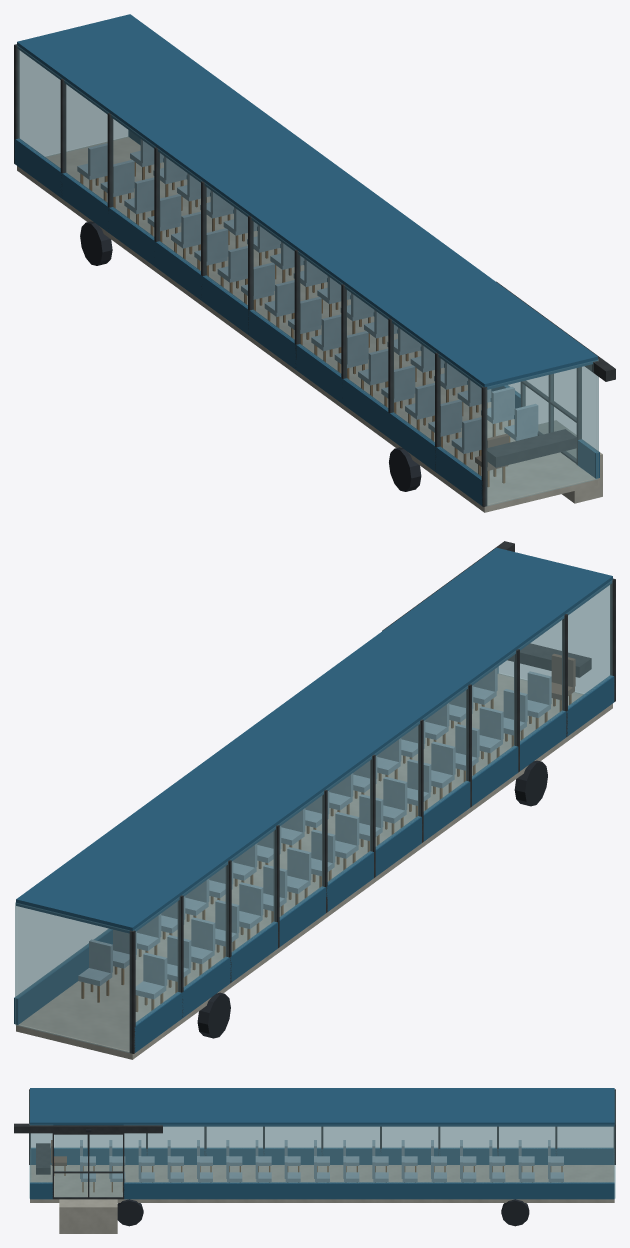
File: 21_Commuter_Train_LOD1.glb
The picture shows the model from 3 angles, top to bottom: view 1: azimuth 30°, elevation 25°; view 2: azimuth 150°, elevation 25°; view 3: azimuth 270°, elevation 25°; orthographic projection. The views are drawn at different scales.
Parts seen in each view (by area): view 1: Vehicle roof, Side windows, Vehicle floor, Vehicle side panel, End glazing, End glazing.001, Driver dashboard, Door glass, Entry side glass, Wheel, Wheel.001, Door glass.001 (+6 smaller); view 2: Vehicle roof, Side windows, Vehicle floor, Vehicle side panel, End glazing.001, Entry side glass.001, End glazing, Entry side lower.001, Wheel.001, Wheel, Driver dashboard, Window mullion.010 (+12 smaller); view 3: Entry side glass.001, Vehicle roof, Side windows, Vehicle floor, Entry side lower.001, Vehicle side panel, Door glass.001, Door glass, Boarding step, Door header, Entry side glass, Wheel.003 (+3 smaller).
Boxes of the visible parts, left/top/right/bottom form: Vehicle roof: left=17, top=14, right=597, bottom=389; Side windows: left=17, top=46, right=482, bottom=478; Vehicle floor: left=17, top=137, right=597, bottom=512; Vehicle side panel: left=14, top=138, right=482, bottom=506; End glazing: left=485, top=360, right=598, bottom=505; End glazing.001: left=18, top=50, right=128, bottom=156; Driver dashboard: left=487, top=429, right=577, bottom=467; Door glass: left=551, top=368, right=576, bottom=458; Entry side glass: left=579, top=359, right=598, bottom=452; Wheel: left=389, top=447, right=421, bottom=491; Wheel.001: left=80, top=221, right=112, bottom=265; Door glass.001: left=523, top=375, right=548, bottom=433; Vehicle roof: left=16, top=547, right=612, bottom=933; Side windows: left=133, top=580, right=612, bottom=1024; Vehicle floor: left=16, top=673, right=612, bottom=1059; Vehicle side panel: left=134, top=675, right=614, bottom=1052; End glazing.001: left=15, top=903, right=131, bottom=1052; Entry side glass.001: left=15, top=902, right=108, bottom=997; End glazing: left=498, top=584, right=611, bottom=694; Entry side lower.001: left=14, top=929, right=112, bottom=1024; Wheel.001: left=197, top=992, right=230, bottom=1038; Wheel: left=514, top=760, right=547, bottom=806; Driver dashboard: left=507, top=643, right=591, bottom=677; Window mullion.010: left=129, top=930, right=135, bottom=1053; Entry side glass.001: left=124, top=1125, right=614, bottom=1182; Vehicle roof: left=30, top=1088, right=614, bottom=1126; Side windows: left=31, top=1127, right=613, bottom=1148; Vehicle floor: left=30, top=1165, right=614, bottom=1202; Entry side lower.001: left=123, top=1182, right=614, bottom=1199; Vehicle side panel: left=30, top=1148, right=614, bottom=1164; Door glass.001: left=89, top=1135, right=122, bottom=1197; Door glass: left=54, top=1135, right=87, bottom=1197; Boarding step: left=59, top=1199, right=117, bottom=1233; Door header: left=14, top=1123, right=162, bottom=1133; Entry side glass: left=30, top=1125, right=52, bottom=1182; Wheel.003: left=501, top=1199, right=529, bottom=1226.
Size of the model in its own units: 3.62 by 3.87 by 20.59.
Materials: 8 (4 with a texture image).
